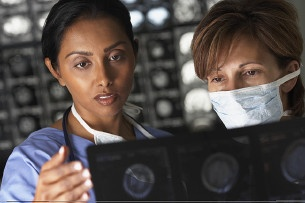Mask: (205, 57, 294, 145)
